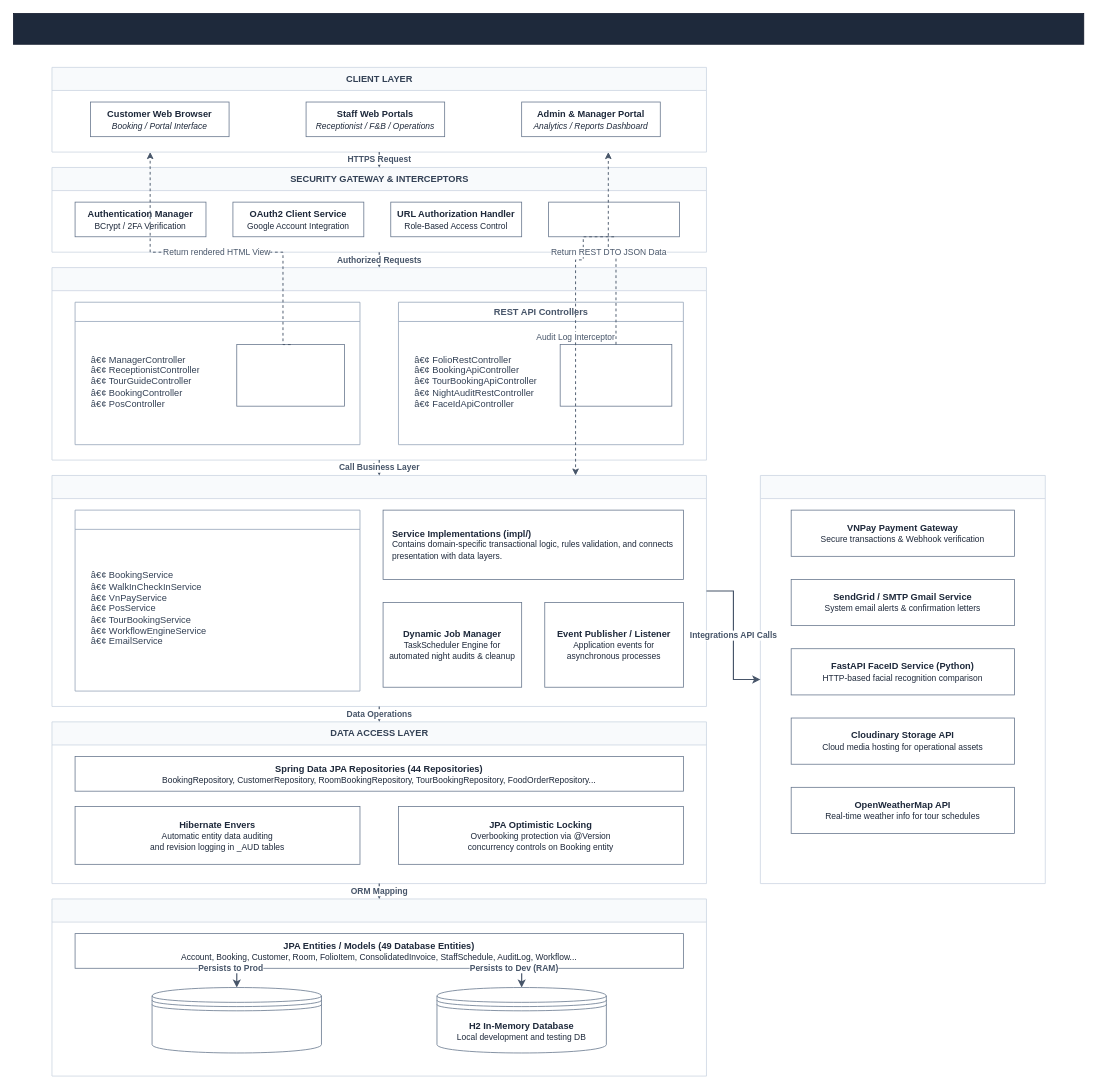
Some shapes in this 1097 by 1090 pixel diagram are drawn without their labels. Each missing label, with the box of its shape:
AOP Audit Interceptor @LogActivity Event Logger: (548, 201, 680, 237)
BUSINESS LOGIC / SERVICE LAYER: (51, 475, 706, 706)
Data Transfer Objects Jackson JSON Serialization Layer: (559, 344, 672, 406)
EXTERNAL INTEGRATIONS: (760, 475, 1045, 884)
KAWAI RETREAT RESORT & HUB - SOFTWARE ARCHITECTURE DIAGRAM (SPRING BOOT MVC): (13, 13, 1084, 44)
MySQL 8.x Database Production persistent relational database: (151, 987, 321, 1053)
PERSISTENCE & DATABASE LAYER: (51, 898, 706, 1076)
PRESENTATION LAYER: (51, 267, 706, 460)
Service Interfaces: (74, 509, 360, 691)
Thymeleaf Engine Server-Side HTML Template Rendering: (236, 344, 345, 406)
Web View Controllers: (74, 301, 360, 445)
